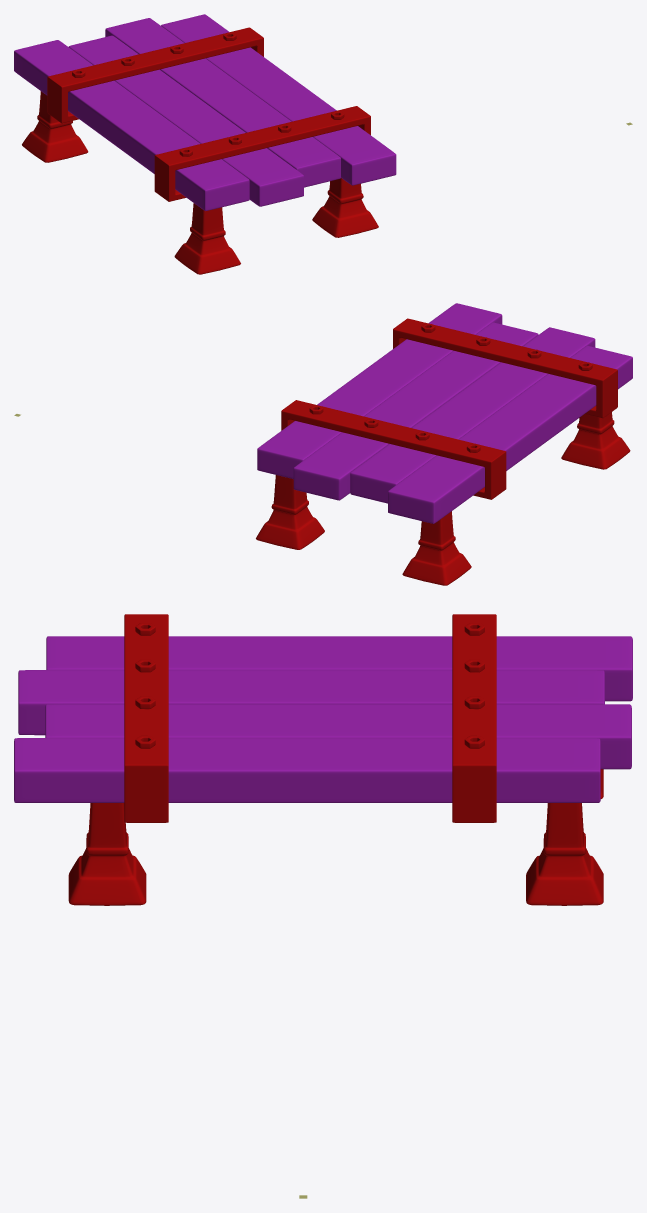
The model's file is Table.fbx.
3 views of the same model, one above another, from view 1: azimuth 30°, elevation 25°; view 2: azimuth 150°, elevation 25°; view 3: azimuth 270°, elevation 25° (orthographic). The views are drawn at different scales.
Parts seen in each view (by area): view 1: pCube28, pCube33, pCube35, pCube34, pCube32, pCube21, pCube29, pCube38, pCube36; view 2: pCube28, pCube34, pCube33, pCube35, pCube21, pCube32, pCube37, pCube36, pCube29; view 3: pCube35, pCube33, pCube34, pCube28, pCube32, pCube21, pCube38, pCube37.
Boxes of the visible parts, <box> form: pCube28: <box>14,40,249,210</box>; pCube33: <box>68,35,303,206</box>; pCube35: <box>161,14,396,185</box>; pCube34: <box>105,18,340,187</box>; pCube32: <box>154,106,370,201</box>; pCube21: <box>47,27,263,123</box>; pCube29: <box>174,203,240,274</box>; pCube38: <box>312,178,378,237</box>; pCube36: <box>22,91,88,162</box>; pCube28: <box>388,346,632,523</box>; pCube34: <box>293,322,538,500</box>; pCube33: <box>350,327,595,503</box>; pCube35: <box>257,303,502,478</box>; pCube21: <box>281,400,506,499</box>; pCube32: <box>393,318,617,418</box>; pCube37: <box>256,475,324,549</box>; pCube36: <box>402,511,471,585</box>; pCube29: <box>561,412,630,469</box>; pCube35: <box>14,738,600,802</box>; pCube33: <box>18,670,604,735</box>; pCube34: <box>45,704,631,769</box>; pCube28: <box>46,636,632,701</box>; pCube32: <box>124,614,168,822</box>; pCube21: <box>452,614,496,822</box>; pCube38: <box>68,803,146,905</box>; pCube37: <box>526,803,603,905</box>.
Size of the model in its own units: 2.98 by 0.7196 by 2.
